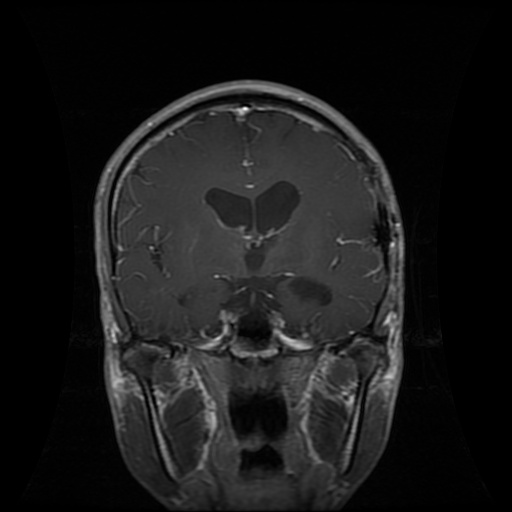glioma: (291, 277, 336, 305)
